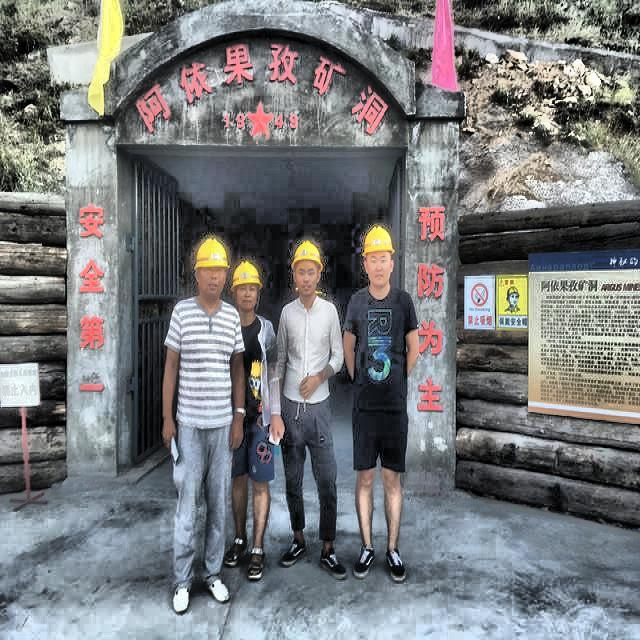person: (335, 214, 423, 580), (164, 236, 247, 616), (280, 225, 356, 585), (232, 250, 285, 590)
